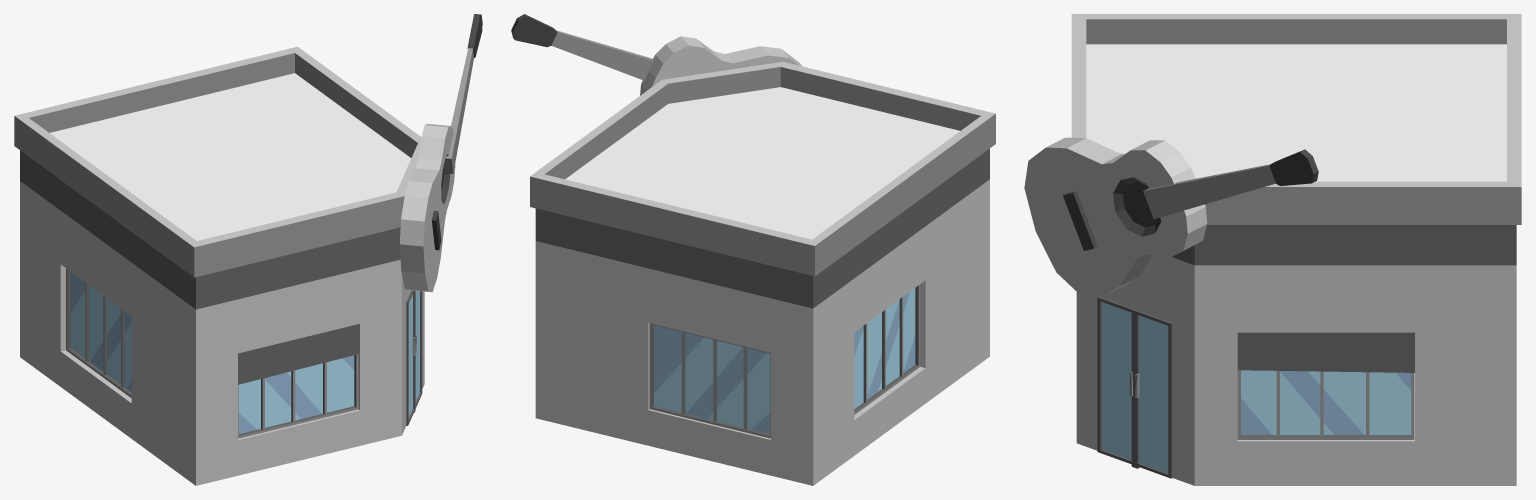
The model's file is services_store_002.fbx.
The picture shows the model from 3 angles, left to right: view 1: azimuth 30°, elevation 25°; view 2: azimuth 150°, elevation 25°; view 3: azimuth 270°, elevation 25°; orthographic projection. The views are drawn at different scales.
Visible parts, largest first — view 1: services_store_002; view 2: services_store_002; view 3: services_store_002.
Boxes of the visible parts, bbox=[...] form: services_store_002: bbox=[14, 14, 482, 485]; services_store_002: bbox=[511, 14, 995, 485]; services_store_002: bbox=[1024, 14, 1521, 485].
Bounding box in the file's own units: 706 × 555 × 631.
